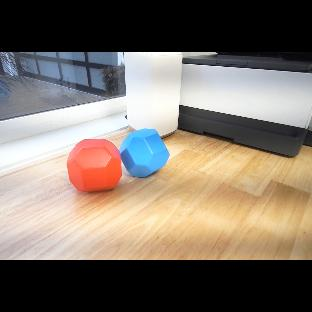V5_BLUE: (122, 129, 170, 177)
V5_RED: (66, 137, 122, 193)
